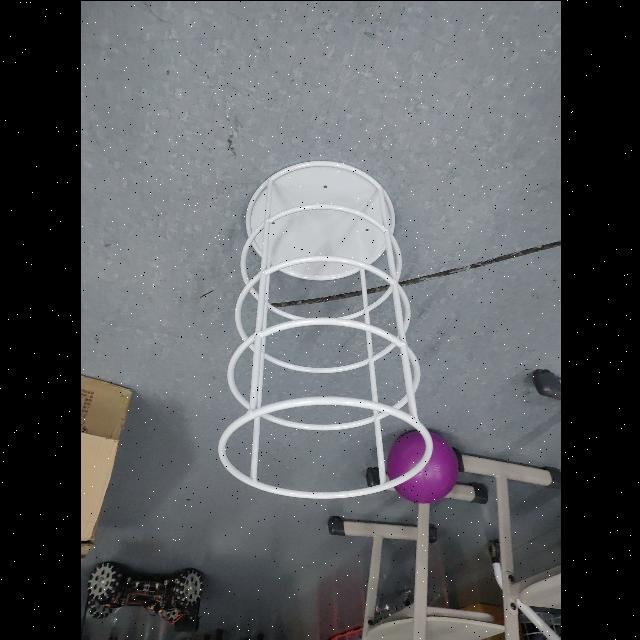S: (211, 153, 435, 502)
